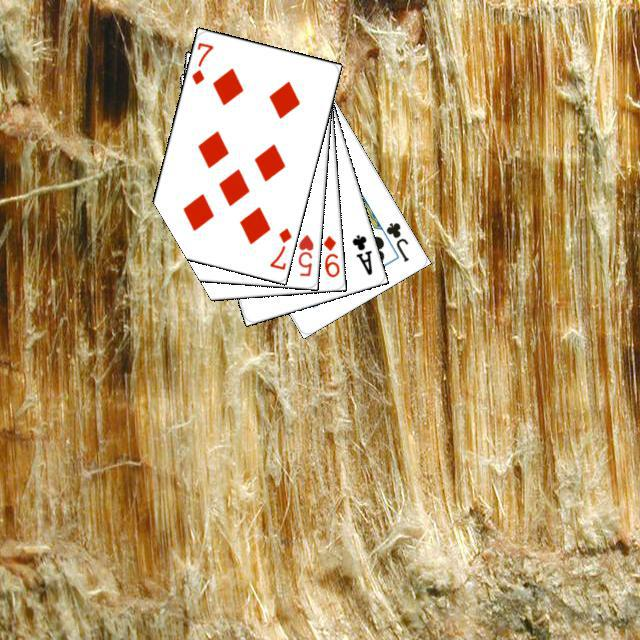5h: (293, 229, 315, 278)
7d: (186, 38, 215, 86), (265, 223, 293, 271)
9d: (319, 230, 340, 279)
Ac: (347, 230, 374, 277)
Jc: (381, 217, 411, 264)
